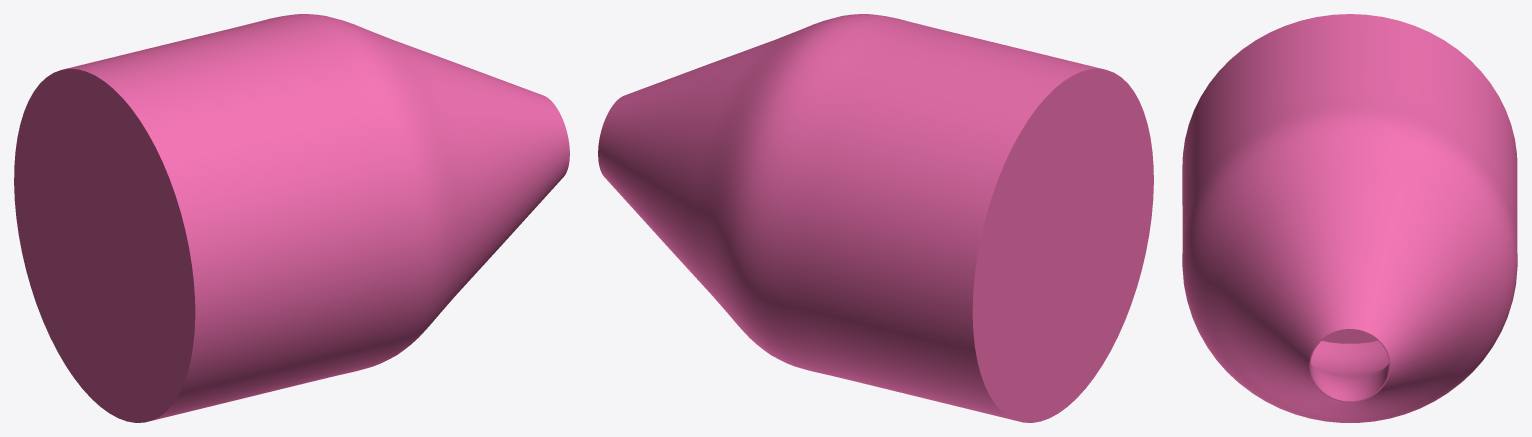
The model's file is nozzle.obj.
3 renders of one model, left to right at view 1: azimuth 30°, elevation 25°; view 2: azimuth 150°, elevation 25°; view 3: azimuth 270°, elevation 25°, orthographic. The views are drawn at different scales.
Visible parts, largest first — view 1: |nozzle|Root|color; view 2: |nozzle|Root|color; view 3: |nozzle|Root|color.
Boxes of the visible parts, x1=… form: |nozzle|Root|color: x1=14, y1=14, x2=569, y2=422; |nozzle|Root|color: x1=598, y1=14, x2=1153, y2=422; |nozzle|Root|color: x1=1182, y1=14, x2=1517, y2=422.
Bounding box in the file's own units: 0.012 × 0.00851 × 0.00851.
